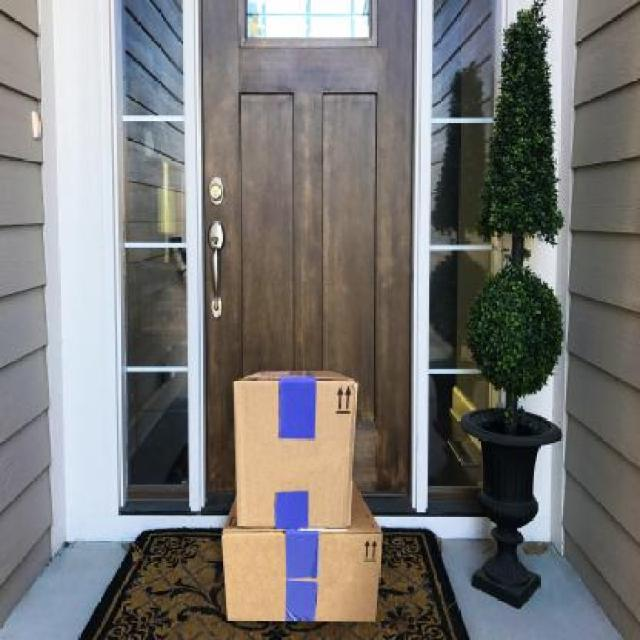cardboxes: (228, 362, 363, 536), (220, 522, 386, 626)
